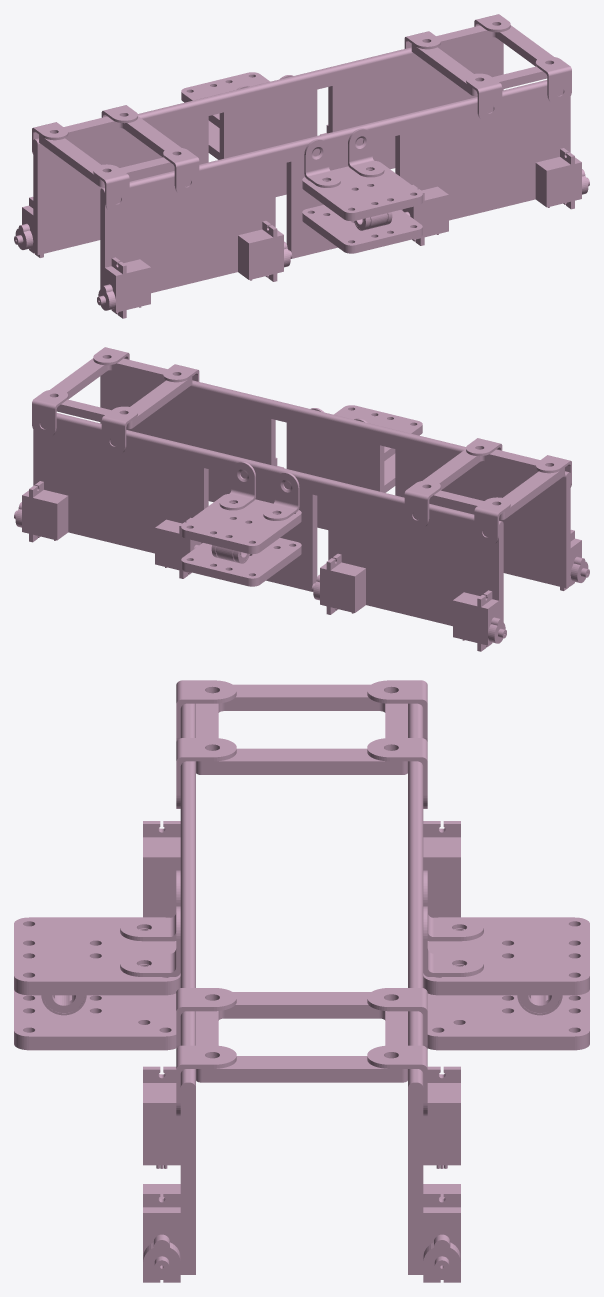
The model's file is wallsystem.dae.
The picture shows the model from 3 angles, top to bottom: view 1: azimuth 30°, elevation 25°; view 2: azimuth 150°, elevation 25°; view 3: azimuth 270°, elevation 25°; orthographic projection. The views are drawn at different scales.
Parts seen in each view (by area): view 1: Wall; view 2: Wall; view 3: Wall.
Part boxes in pixels (left/top/right/bottom): Wall: left=14, top=14, right=589, bottom=318; Wall: left=14, top=347, right=589, bottom=651; Wall: left=14, top=680, right=589, bottom=1282.
Bounding box in the file's own units: 0.3148 × 0.19 × 0.0813.
